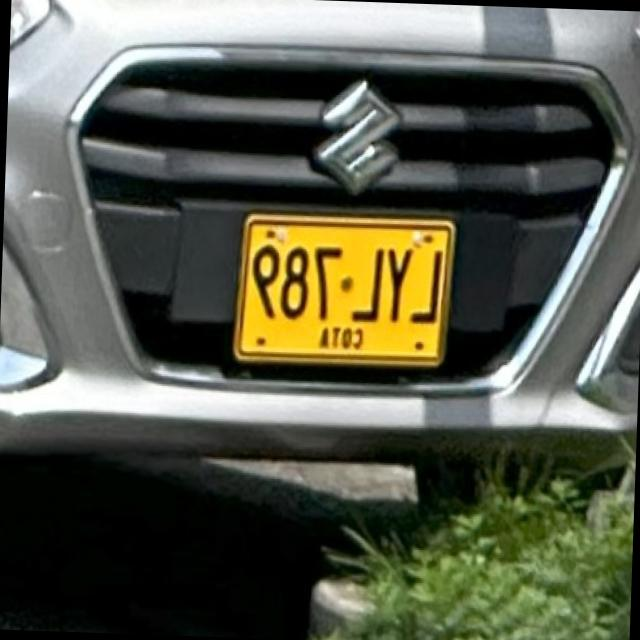number plate: (235, 214, 455, 363)
